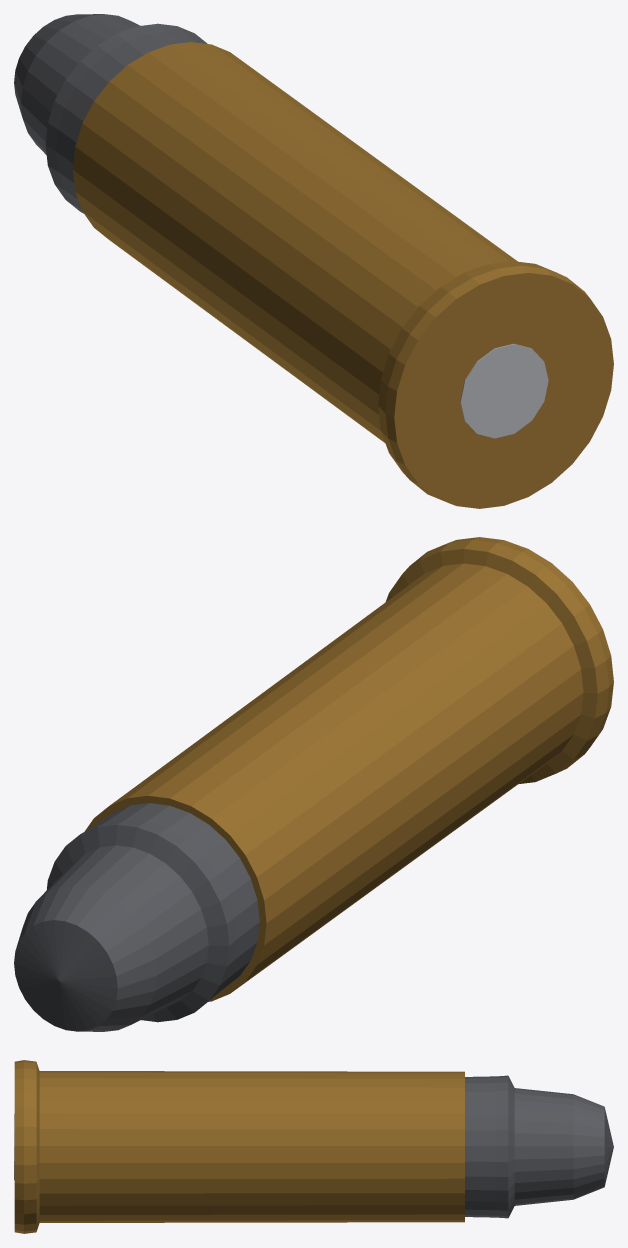
The model's file is municao_38.glb.
The picture shows the model from 3 angles, top to bottom: view 1: azimuth 30°, elevation 25°; view 2: azimuth 150°, elevation 25°; view 3: azimuth 270°, elevation 25°; orthographic projection. The views are drawn at different scales.
Visible parts, largest first — view 1: municao_38_latao, municao_38_chumbo, municao_38_aco_inox; view 2: municao_38_latao, municao_38_chumbo; view 3: municao_38_latao, municao_38_chumbo.
Boxes of the visible parts, x1=… form: municao_38_latao: x1=73, y1=42, x2=613, y2=508; municao_38_chumbo: x1=14, y1=14, x2=207, y2=213; municao_38_aco_inox: x1=460, y1=343, x2=548, y2=438; municao_38_latao: x1=85, y1=537, x2=613, y2=1001; municao_38_chumbo: x1=14, y1=803, x2=259, y2=1031; municao_38_latao: x1=14, y1=1060, x2=464, y2=1233; municao_38_chumbo: x1=465, y1=1075, x2=613, y2=1218.
Bounding box in the file's own units: 0.0112 × 0.0112 × 0.0387.
